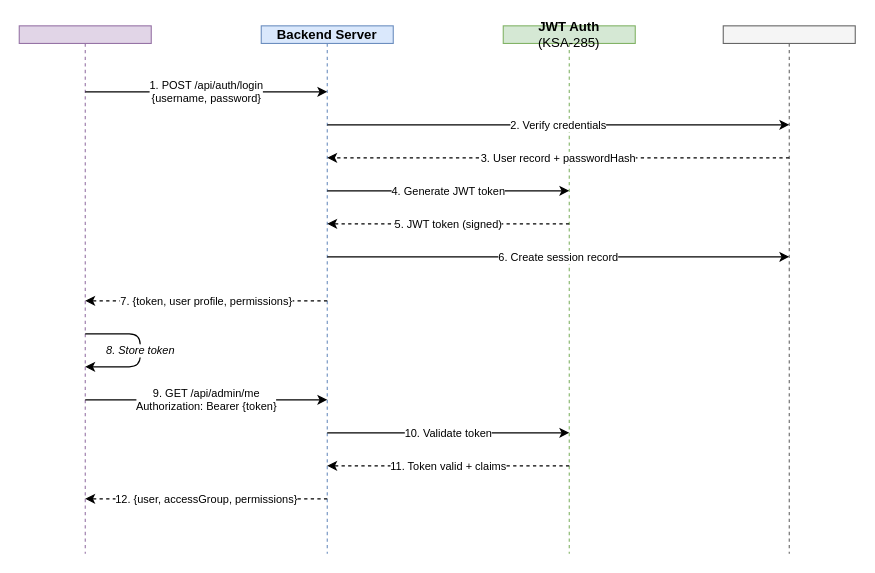
This 875x573 diagram has some shape labels left out. Here are the shapes that lost their labels. From the top down, the box of each, then its label:
(18, 25, 151, 554): Browser (SPA)
(722, 25, 855, 554): SQLite DB
